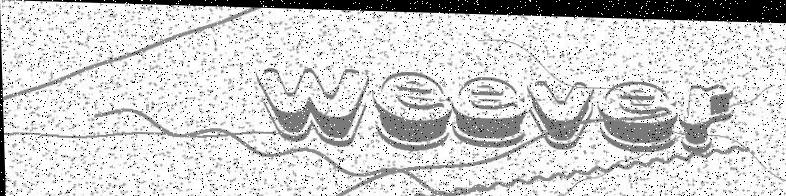e: (372, 69, 452, 149), (597, 77, 678, 149), (451, 73, 528, 146)
r: (678, 80, 734, 150)
v: (526, 76, 594, 146)
w: (255, 64, 370, 144)
